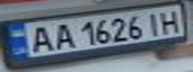1: (75, 18, 96, 46)
2: (109, 15, 130, 43)
6: (93, 16, 115, 45), (127, 12, 148, 39)
A: (21, 24, 57, 54), (48, 20, 78, 51)
H: (154, 7, 184, 34)
I: (142, 9, 166, 36)
